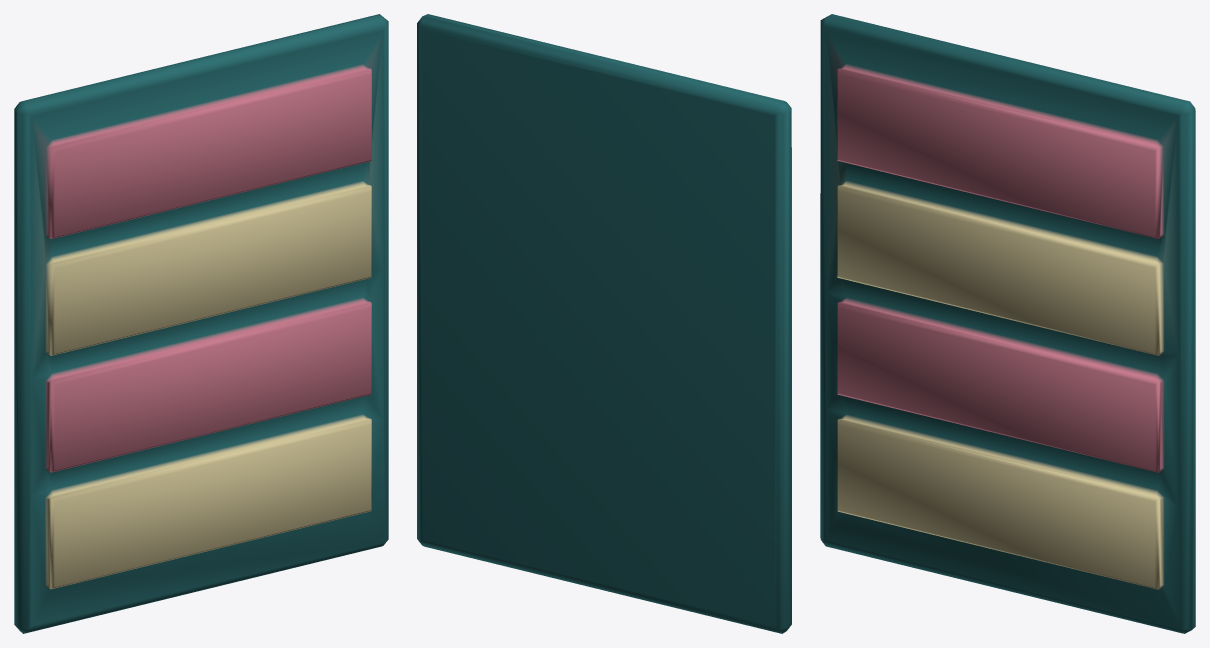
The model's file is bang_ve_so.glb.
3 renders of one model, left to right at view 1: azimuth 30°, elevation 25°; view 2: azimuth 150°, elevation 25°; view 3: azimuth 330°, elevation 25°, orthographic.
Visible parts, largest first — view 1: bang_ve_so; view 2: bang_ve_so; view 3: bang_ve_so.
Boxes of the visible parts, x1,y1,x2,y2 form: bang_ve_so: (14,14,388,633); bang_ve_so: (417,14,791,633); bang_ve_so: (820,14,1195,633).
Bounding box in the file's own units: 0.22 × 0.3 × 0.018.
